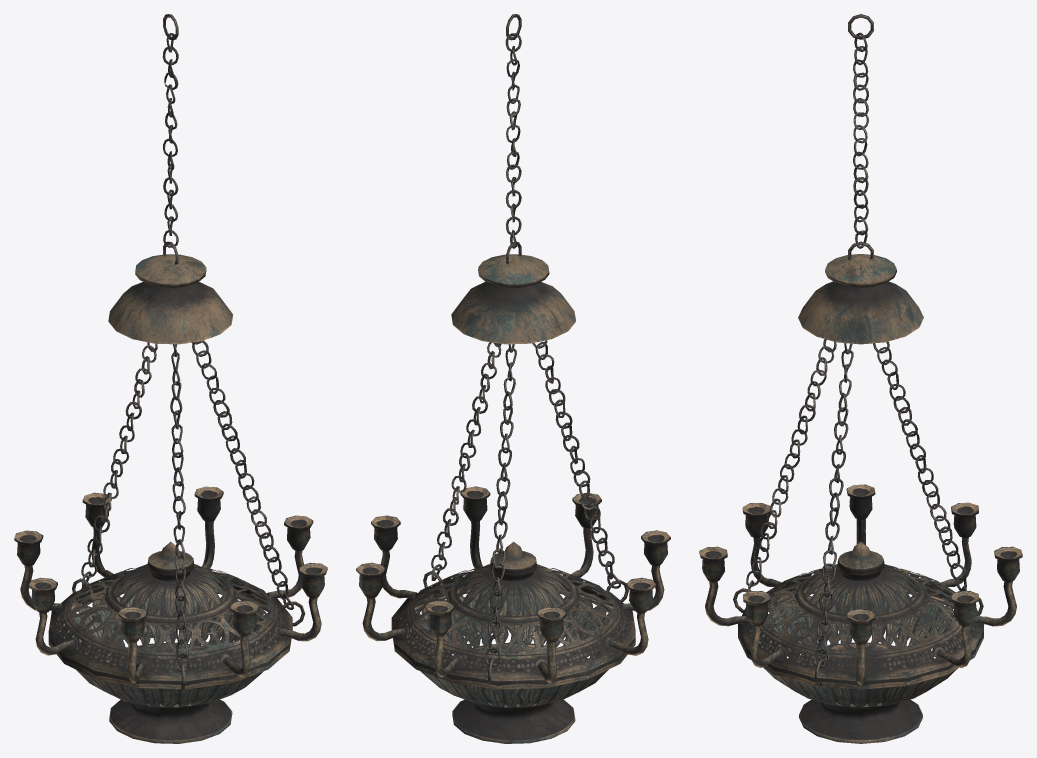
File: pot_2.glb
The picture shows the model from 3 angles, left to right: view 1: azimuth 30°, elevation 25°; view 2: azimuth 150°, elevation 25°; view 3: azimuth 270°, elevation 25°; orthographic projection.
Visible parts, largest first — view 1: Censer02; view 2: Censer02; view 3: Censer02.
Part boxes in pixels (x1,y1,x2,y2): Censer02: (14, 14, 327, 743); Censer02: (356, 14, 670, 743); Censer02: (699, 14, 1022, 743).
Bounding box in the file's own units: 5.22 × 12.52 × 5.22.
1 material, 1 textured.
